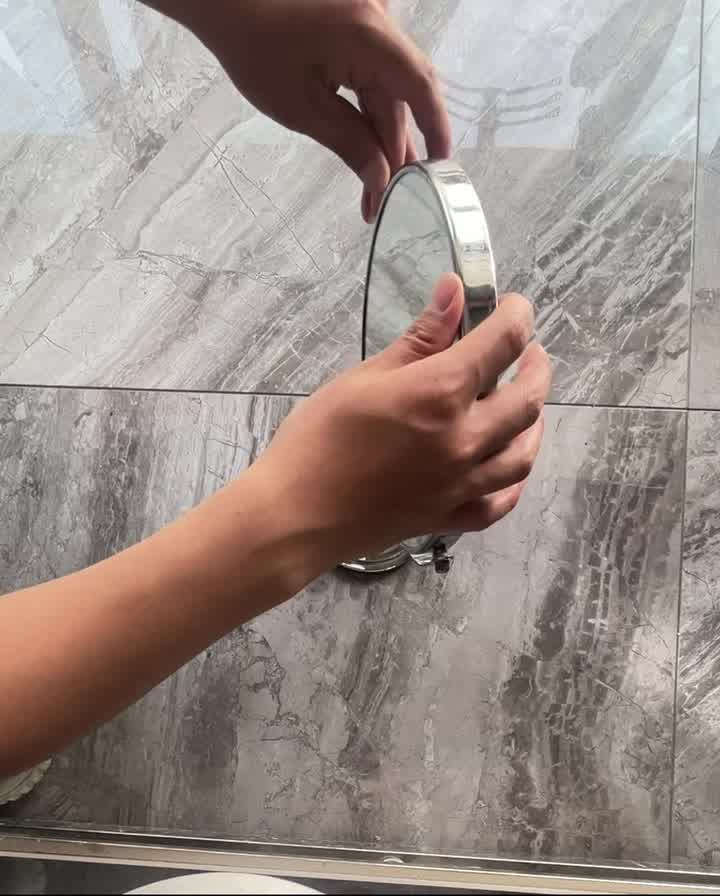mirror: (357, 157, 504, 572)
